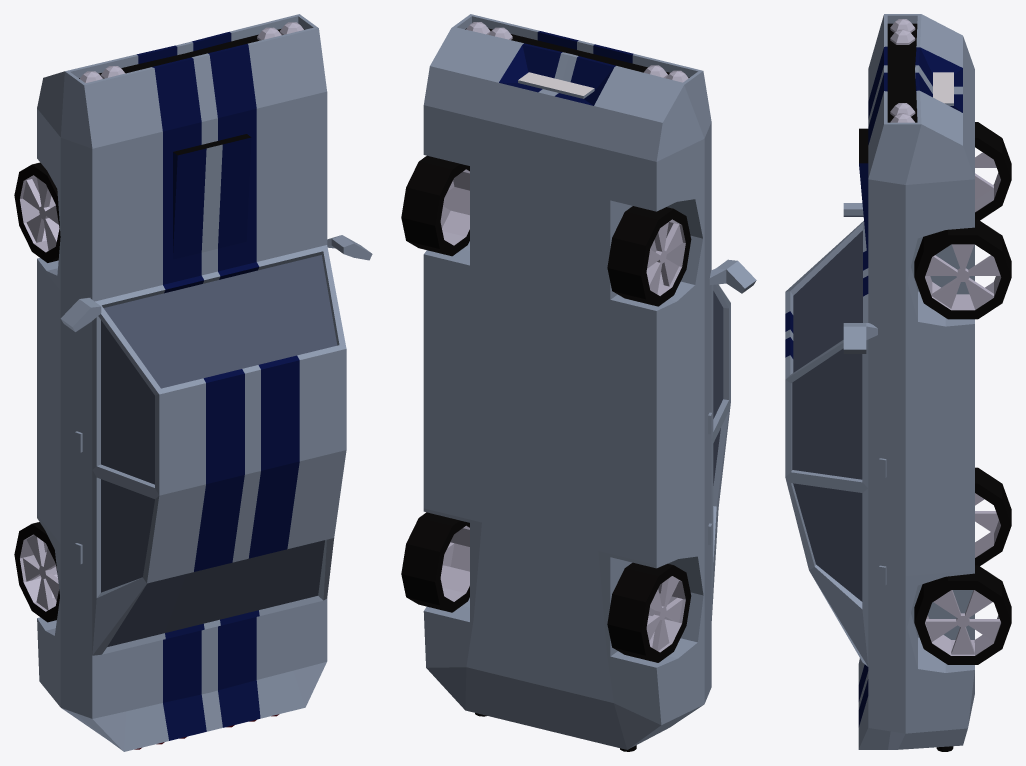
Rendered from Muscle2.glb.
3 renders of one model, left to right at view 1: azimuth 30°, elevation 25°; view 2: azimuth 150°, elevation 25°; view 3: azimuth 270°, elevation 25°, orthographic. The views are drawn at different scales.
Parts seen in each view (by area): view 1: Mesh_0; view 2: Mesh_0; view 3: Mesh_0.
Boxes of the visible parts, <box> form: Mesh_0: <box>14,14,372,751</box>; Mesh_0: <box>401,14,756,751</box>; Mesh_0: <box>785,14,1011,751</box>.
Bounding box in the file's own units: 2.81 × 6.06 × 1.91.
